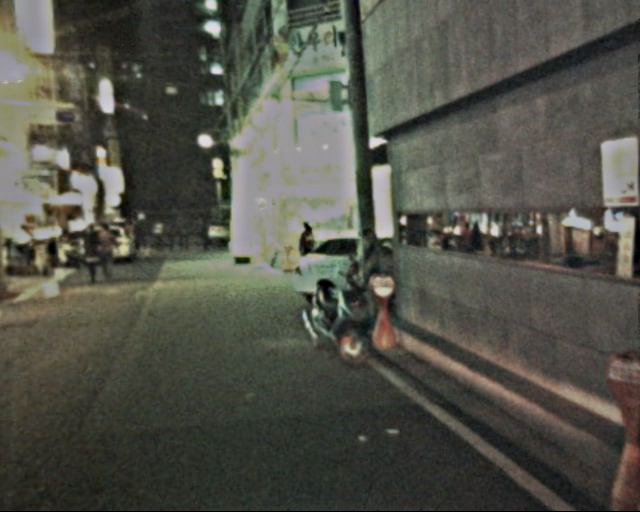person: (126, 215, 210, 254), (96, 220, 124, 282), (83, 220, 109, 281), (294, 221, 318, 280)
